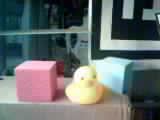duck: (60, 58, 106, 99)
